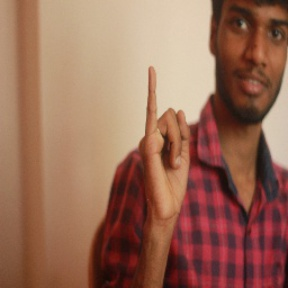I: (135, 64, 193, 219)
